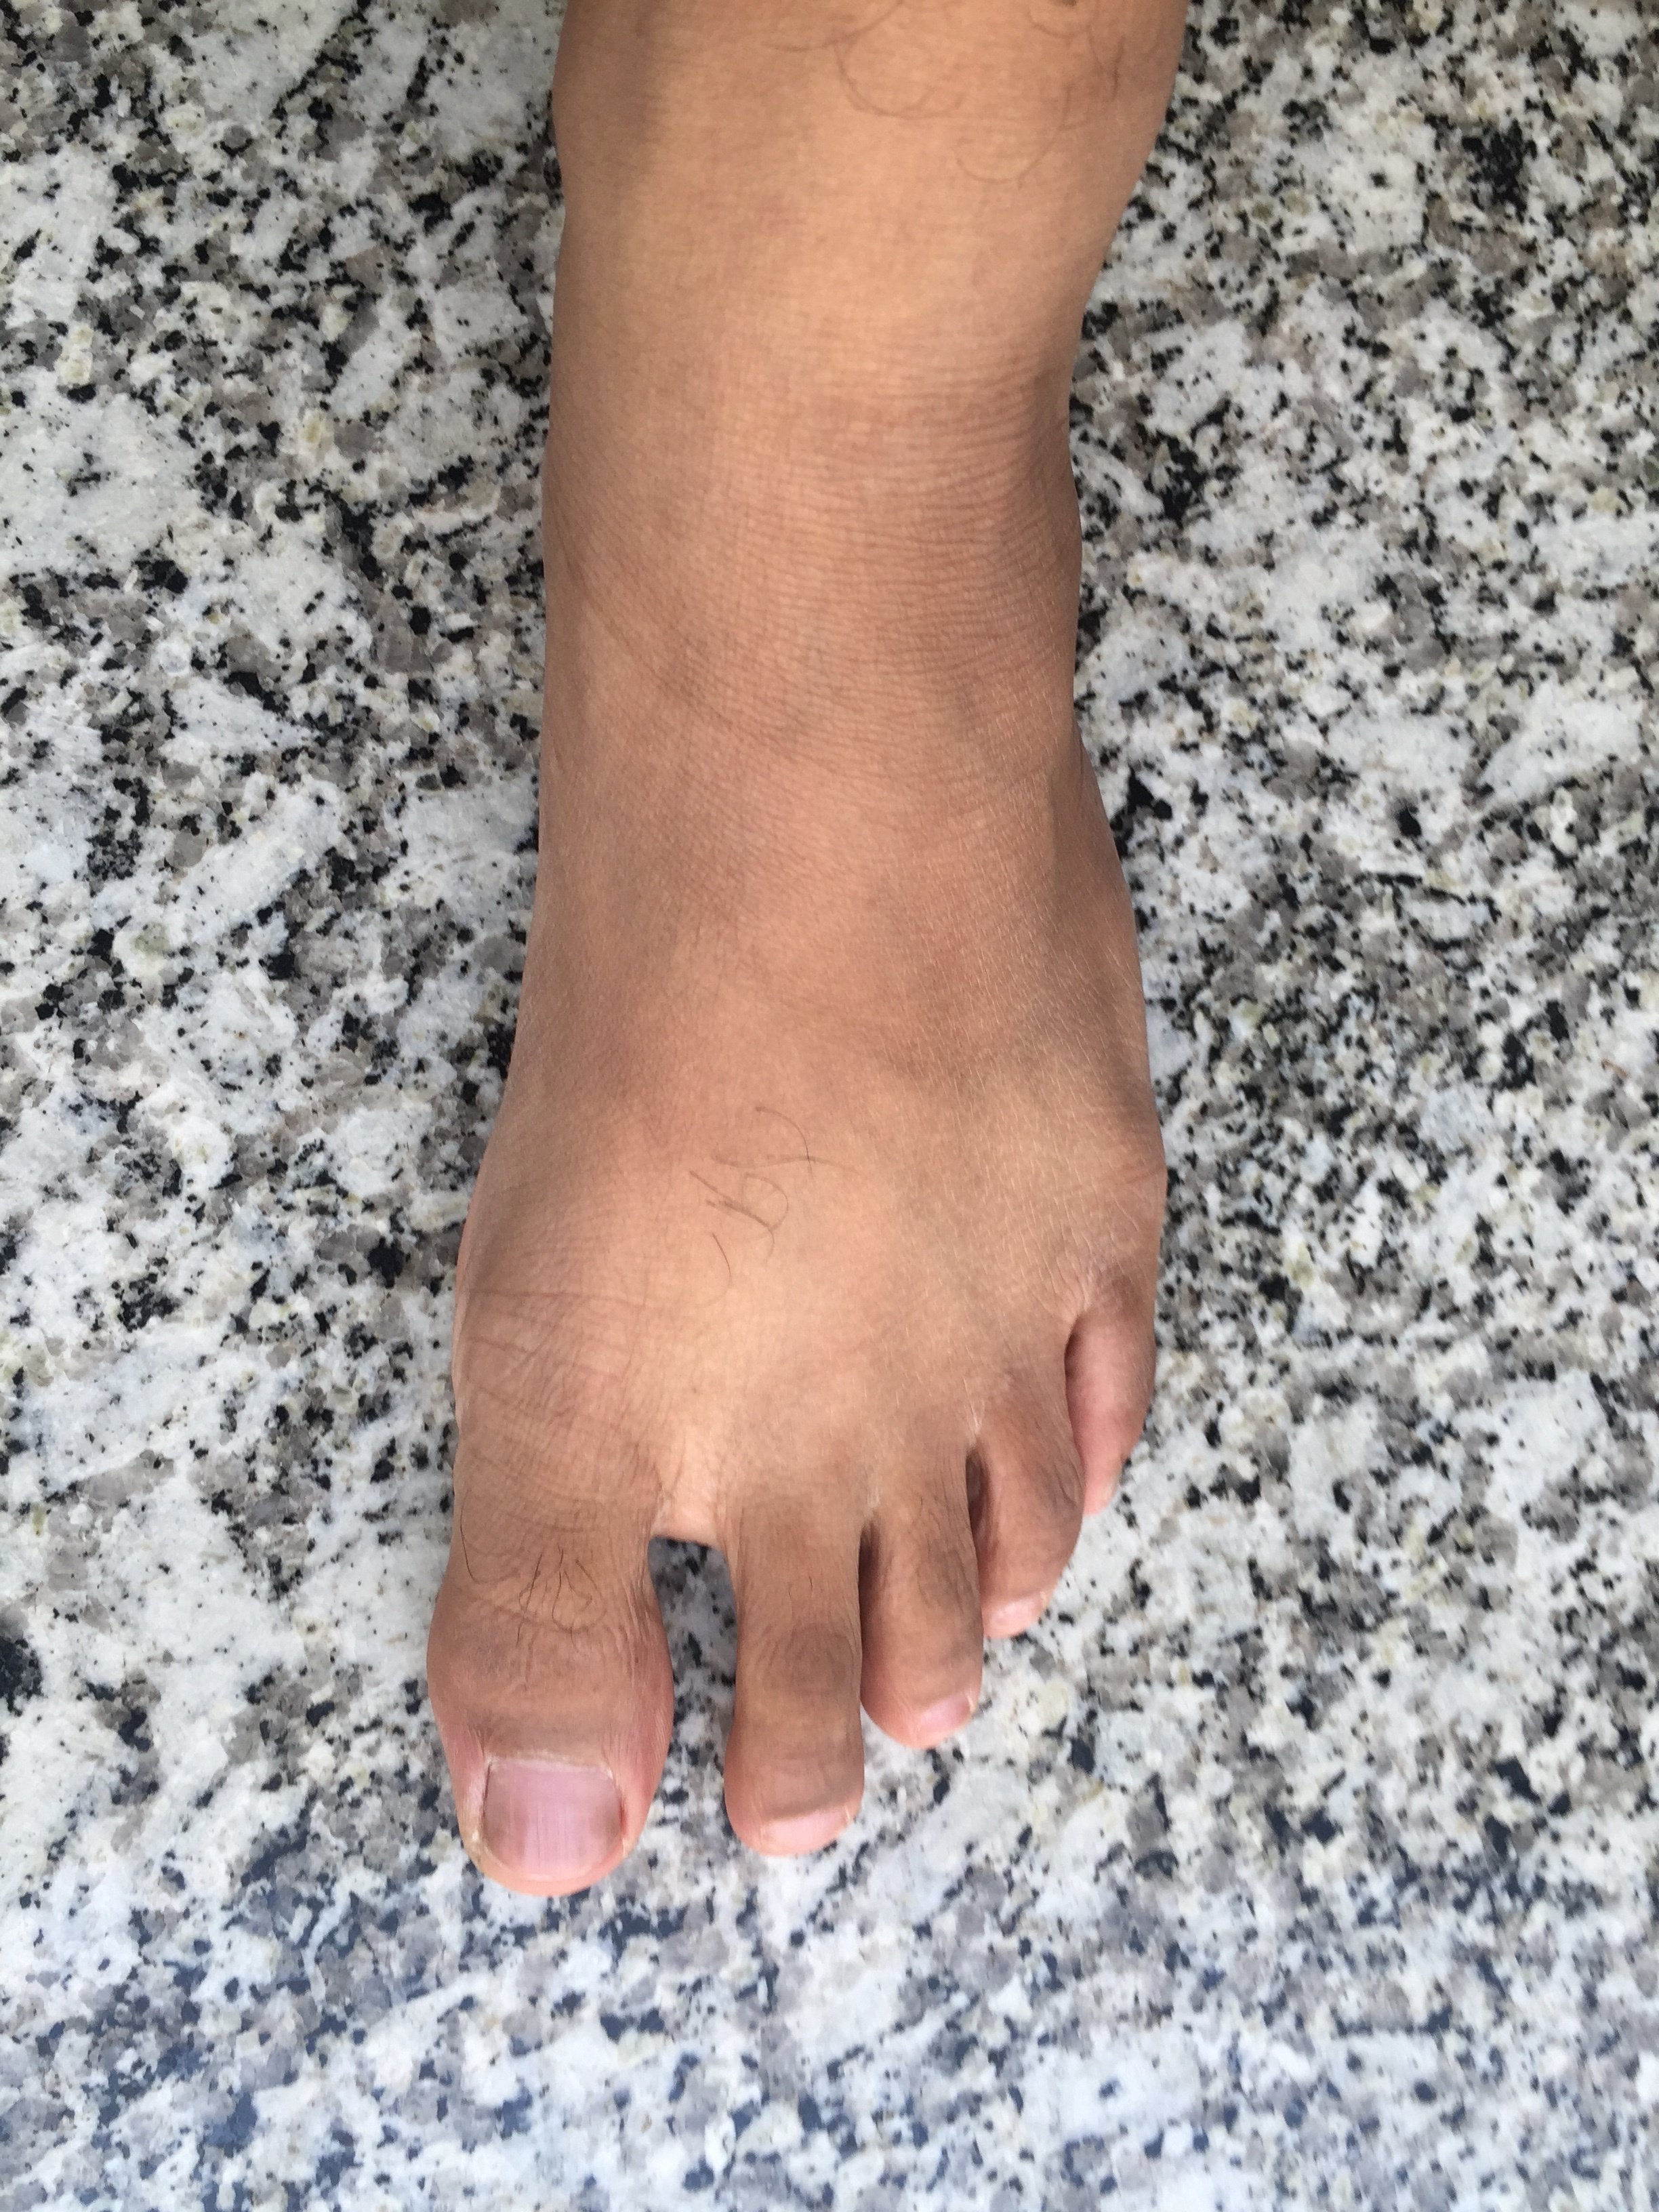feet: (350, 19, 1188, 1911)
